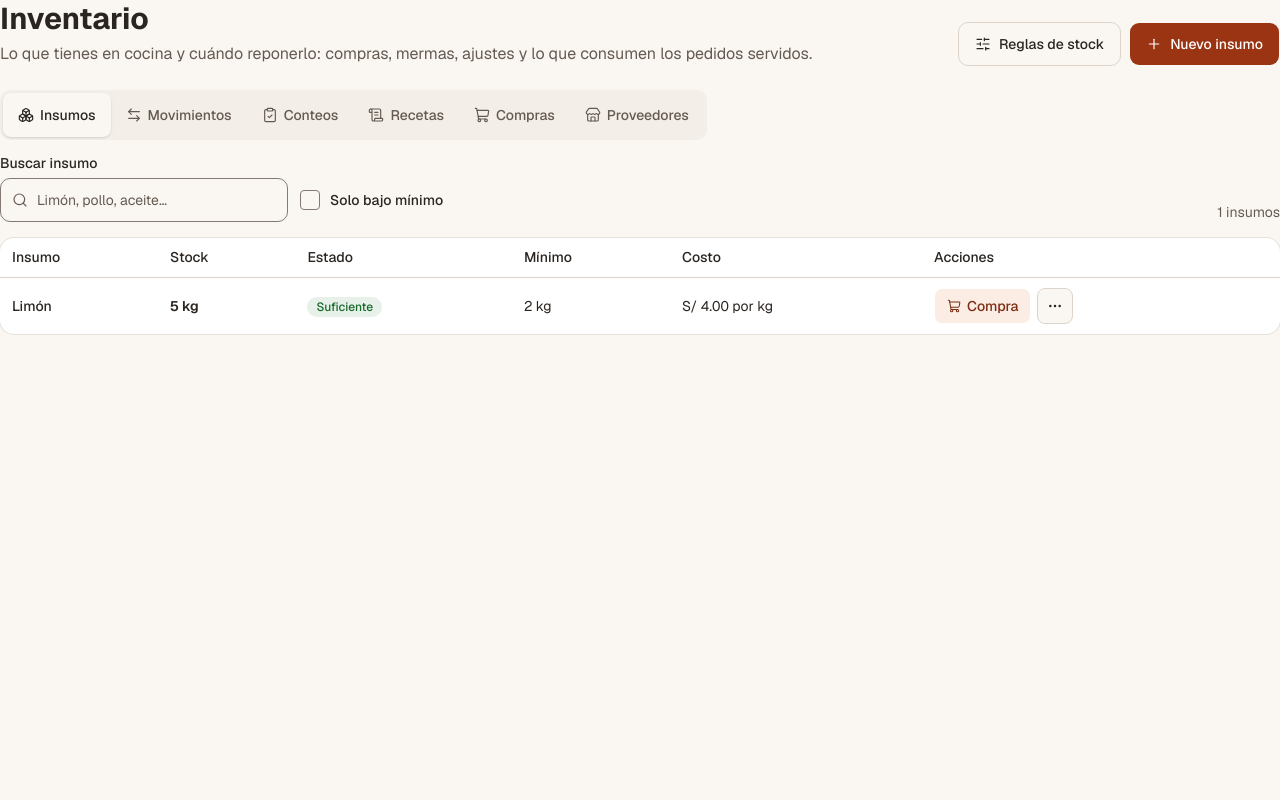
Scenario: compras, mermas y ajustes › una merma exige motivo, avisa si deja el stock bajo el mínimo y se envía en gramos
Step 1. Click the button named "Más acciones de Limón" → {"x": 1055, "y": 306}, box 1037,288 -> 1073,324
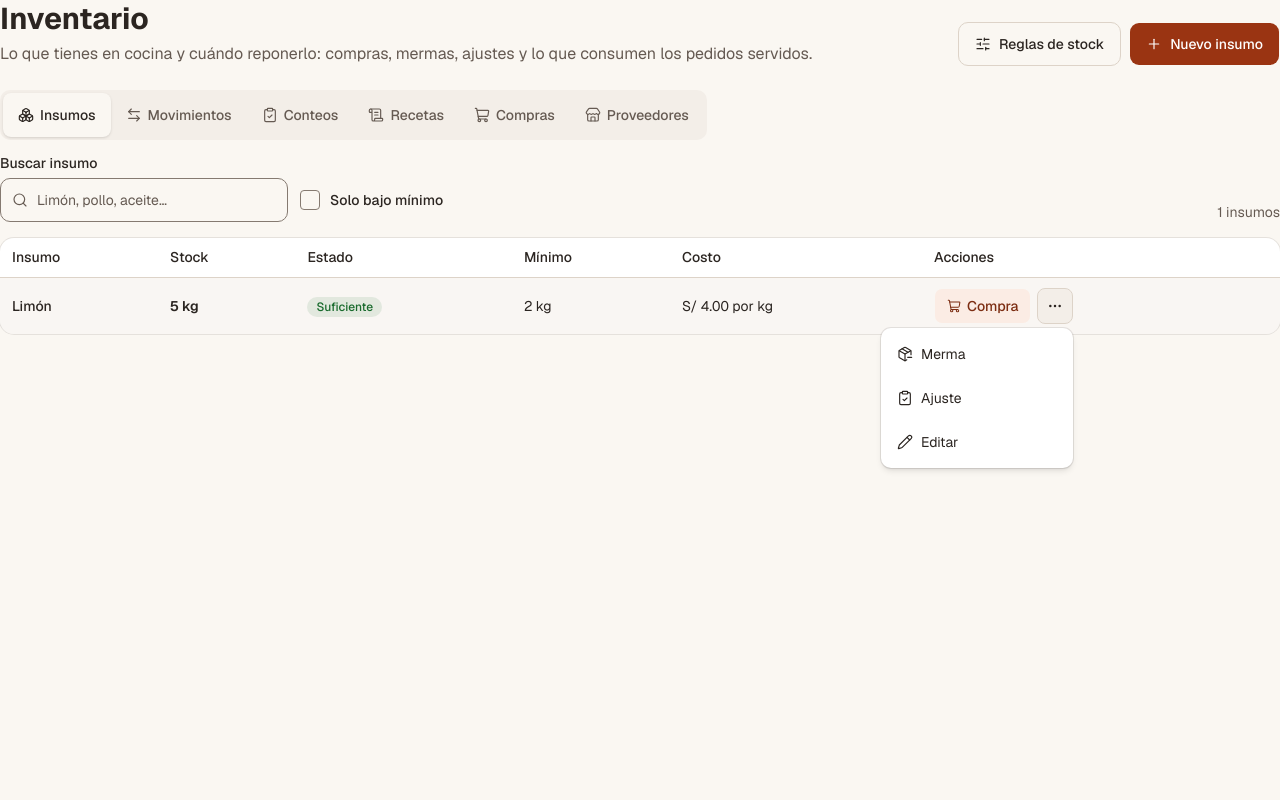
Step 2. Click the menu item "Merma" → {"x": 931, "y": 354}, box 897,345 -> 966,363
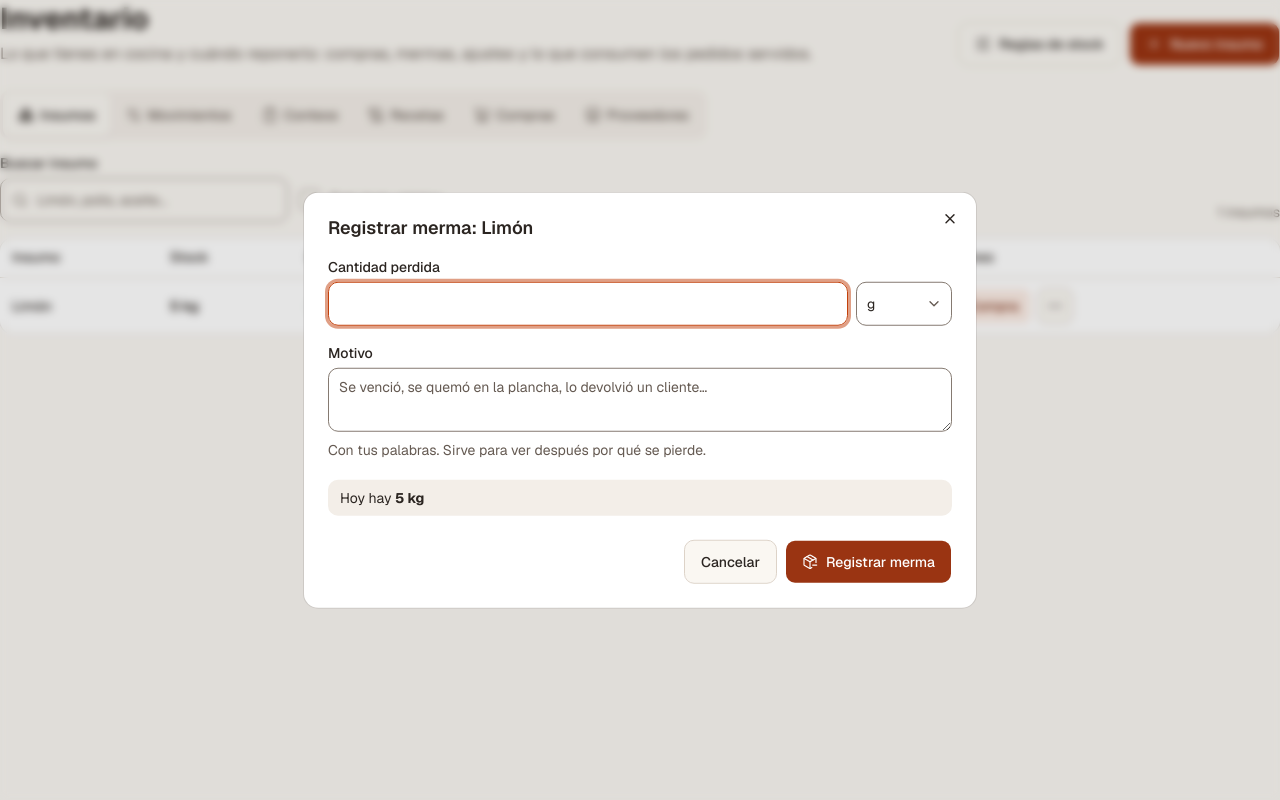
Step 3. Type "4000" into the field labelled "Cantidad perdida" → {"x": 588, "y": 303}, box 328,281 -> 848,325
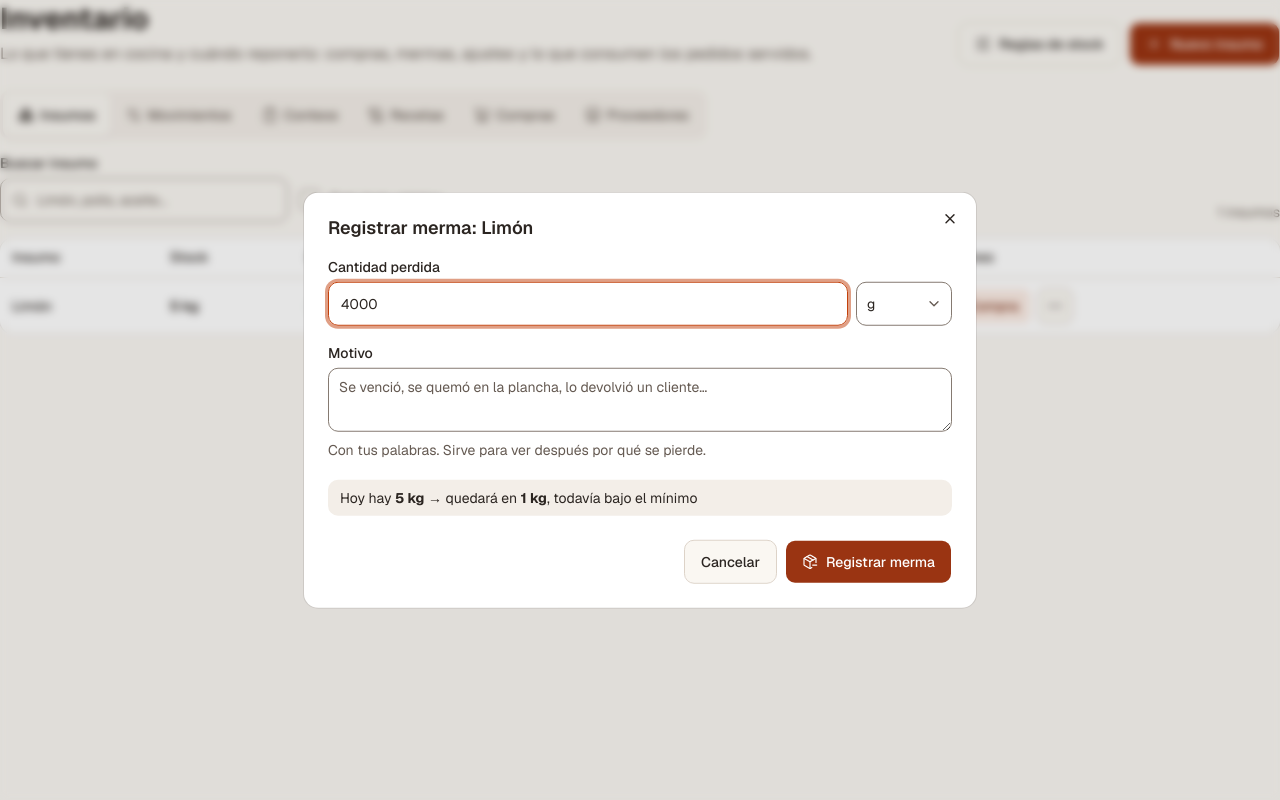
Now the text "Hoy hay 5 kg → quedará en 1 kg, todavía bajo el mínimo" is shown, box 328,479 -> 952,515
Step 4. Click the button "Registrar merma" → {"x": 868, "y": 561}, box 785,539 -> 952,583
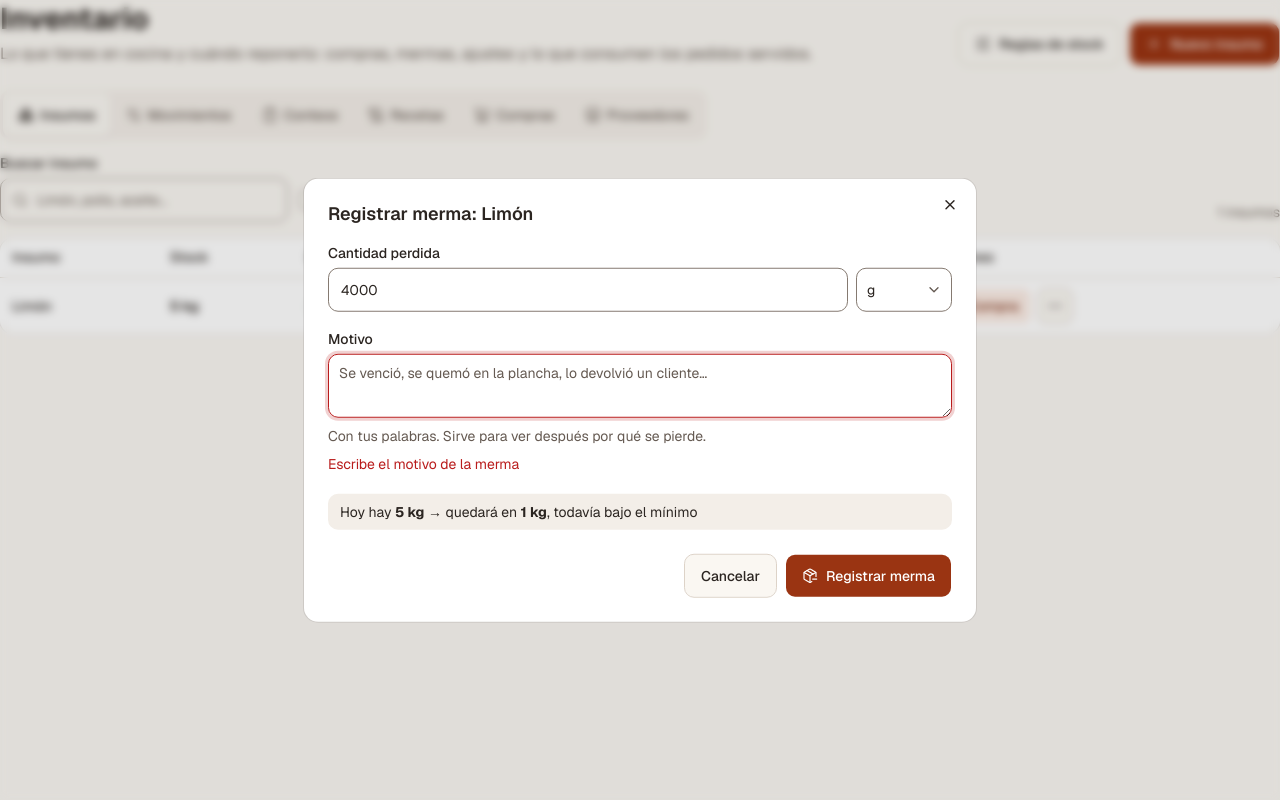
Now the text "Escribe el motivo de la merma" is shown, box 328,454 -> 519,472
Step 5. Type "Se malogró con el calor" into the text box labelled "Motivo" → {"x": 640, "y": 385}, box 328,353 -> 952,417
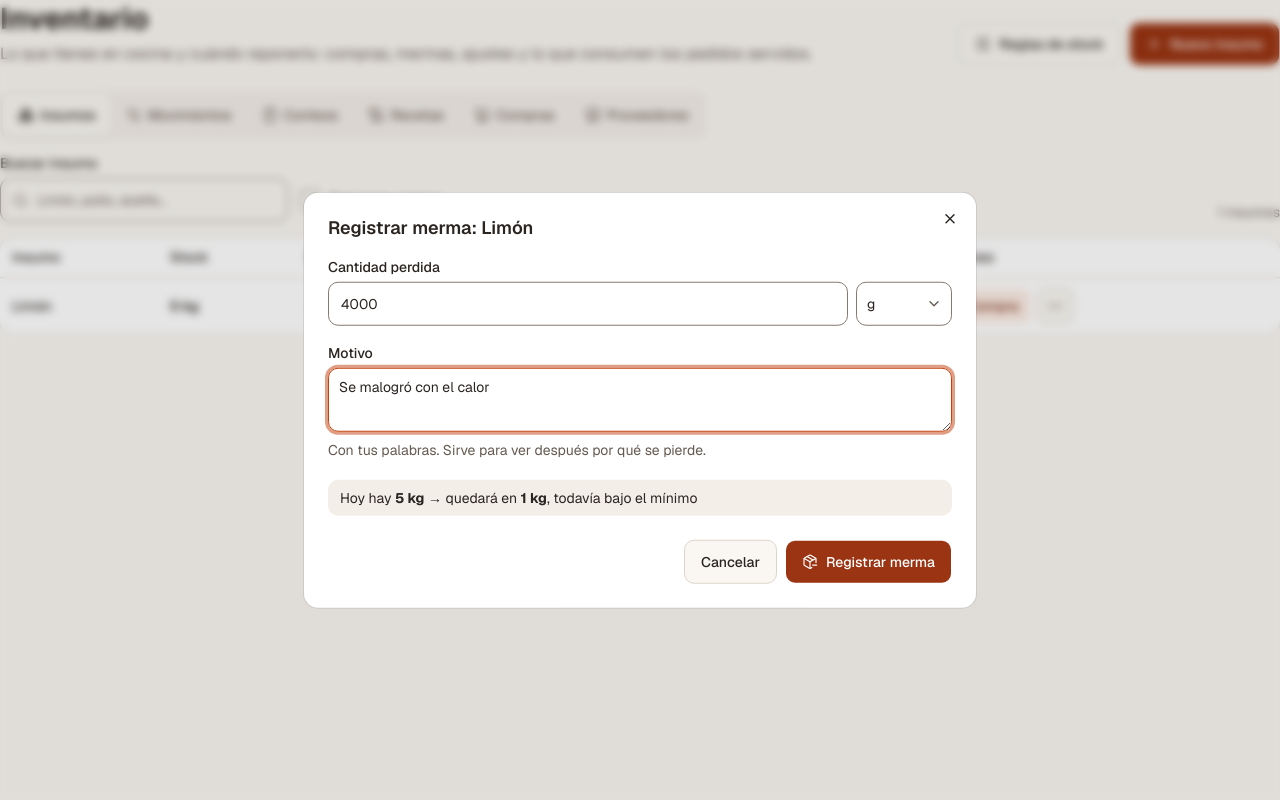
Step 6. Click the button "Registrar merma" → {"x": 868, "y": 561}, box 785,539 -> 952,583
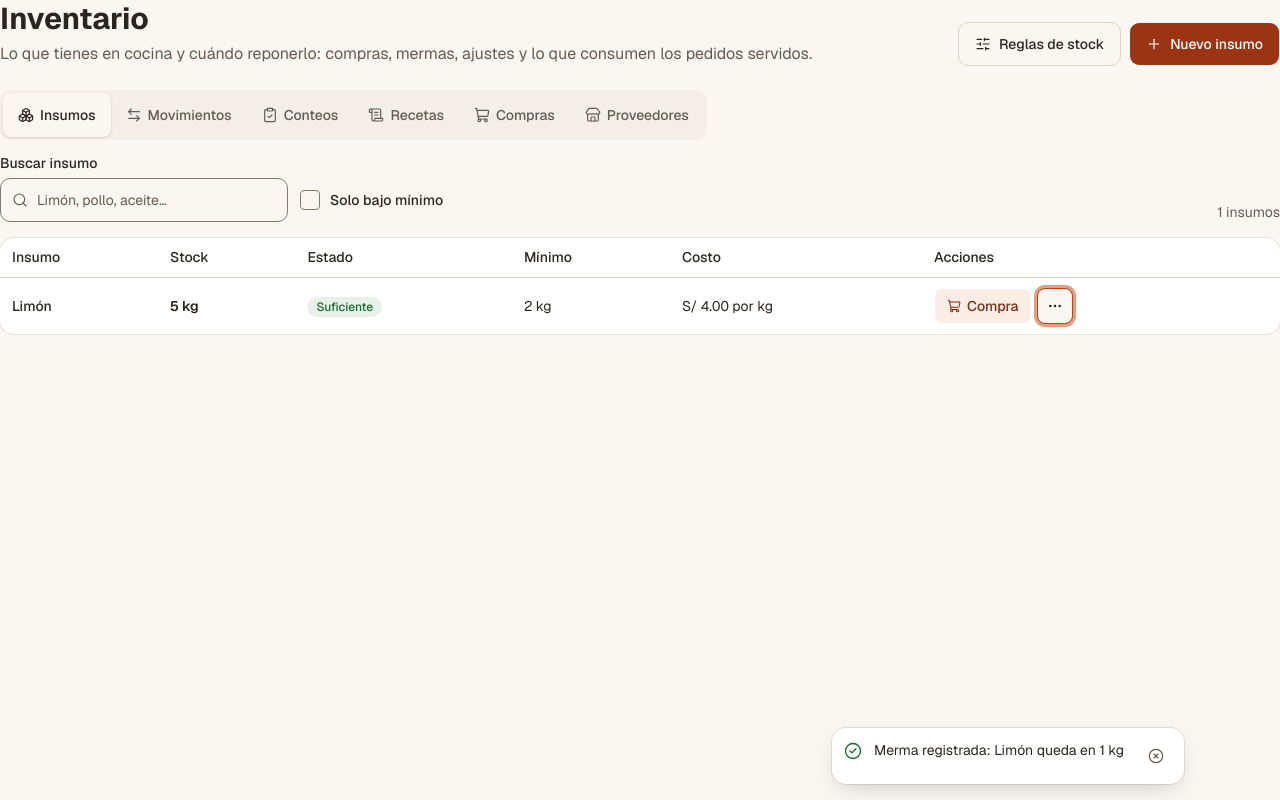
Now the text "Merma registrada: Limón queda en 1 kg" is shown, box 874,740 -> 1128,760
